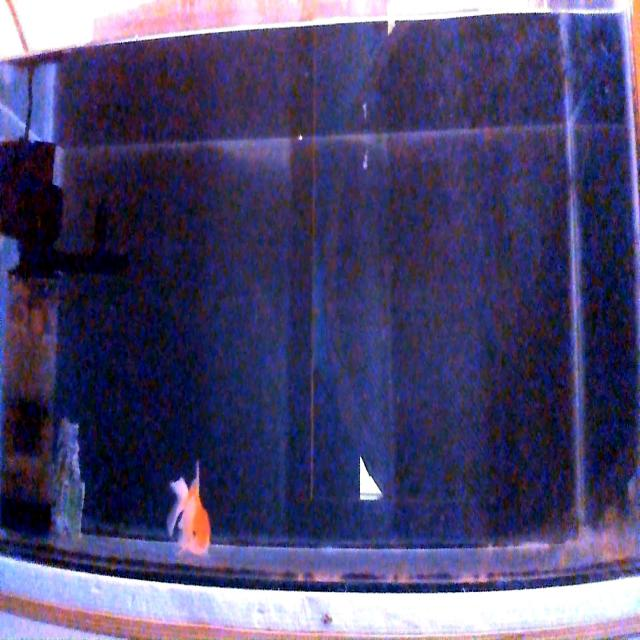fish: (167, 463, 211, 555)
